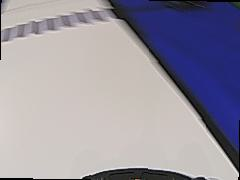CrossWalk: (1, 5, 124, 42)
